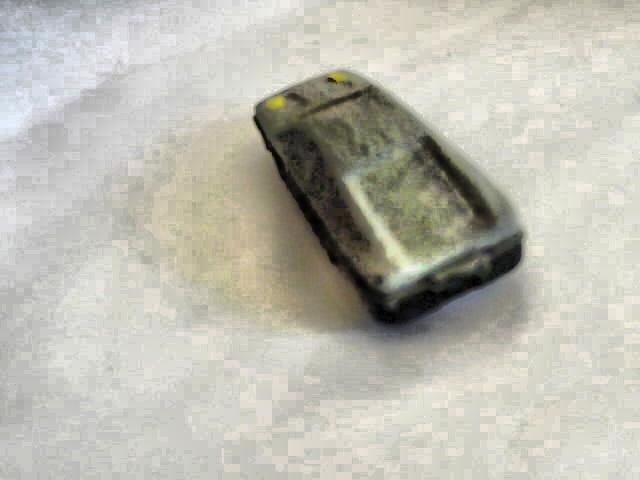normal_car: (246, 66, 529, 329)
